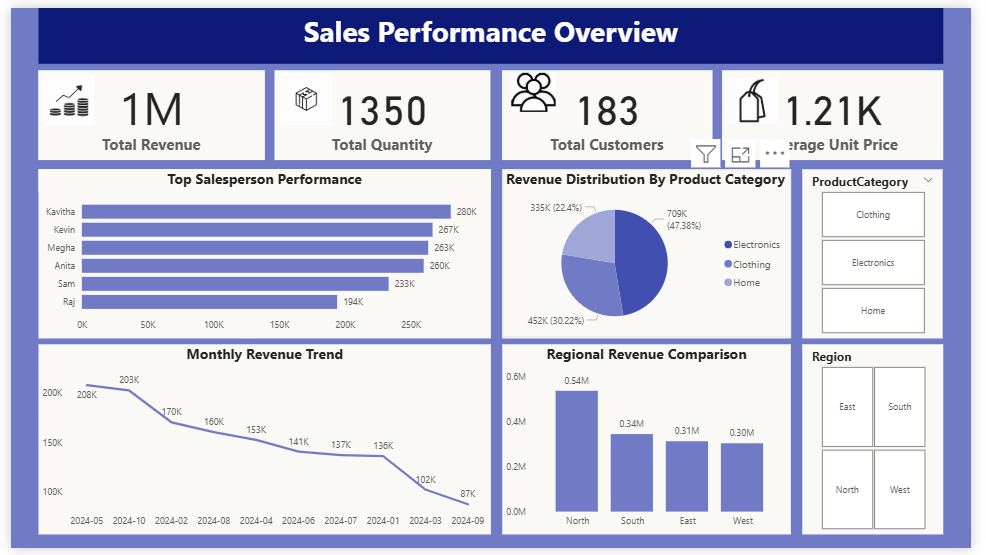

Layout of this report page (visuals, bound fields, positions):
{"tool":"powerbi","page":{"name":"Sales Performance Overview","canvas":[1280,720],"ordinal":0},"visuals":[{"type":"textbox","box":[36.2,0,1206.4,74.8],"z":0},{"type":"card","fields":{"Values":["sales_dataset.Total Revenue"]},"box":[36.2,83.2,301.6,119.4],"z":1000},{"type":"card","fields":{"Values":["sales_dataset.Total Quantity"]},"box":[352.3,83.2,287.1,119.4],"z":2000},{"type":"card","fields":{"Values":["sales_dataset.Total Customers"]},"box":[655.1,83.2,279.9,119.4],"z":3000},{"type":"card","fields":{"Values":["sales_dataset.Average Unit Prize"]},"box":[948.3,83.2,294.4,119.4],"z":4000},{"type":"lineChart","title":"Monthly Revenue Trend","fields":{"Category":["Date.Year-Month"],"Y":["sales_dataset.Total Revenue"]},"box":[36.2,448.8,603.2,253.4],"z":5000},{"type":"columnChart","title":"Regional Revenue Comparison","fields":{"Category":["sales_dataset.Region"],"Y":["sales_dataset.Total Revenue"]},"box":[655.1,448.8,384.9,253.4],"z":6000},{"type":"pieChart","title":"Revenue Distribution By Product Category","fields":{"Category":["sales_dataset.ProductCategory"],"Y":["sales_dataset.Total Revenue"]},"box":[655.1,214.7,384.9,225.6],"z":7000},{"type":"barChart","title":"Top Salesperson Performance","fields":{"Category":["sales_dataset.SalespersonName"],"Y":["sales_dataset.Total Revenue"]},"box":[36.2,214.7,603.2,225.6],"z":8000},{"type":"slicer","fields":{"Values":["sales_dataset.Region"]},"box":[1055.6,448.8,188.2,253.4],"z":9000},{"type":"slicer","fields":{"Values":["sales_dataset.ProductCategory"]},"box":[1055.6,214.7,187,225.6],"z":10000},{"type":"image","box":[36.2,84.5,80.8,77.2],"z":11000},{"type":"image","box":[352.3,82,83.2,79.6],"z":12000},{"type":"image","box":[948.3,84.5,80.8,77.2],"z":13000},{"type":"image","box":[655.1,82,83.2,61.5],"z":14000}]}

Visuals, with their boxes in screenshot pixels (x1, y1, x2, y2), scaled from the page's 1280x720 canvas onto the 986x555 screenshot:
textbox: {"left": 28, "top": 0, "right": 957, "bottom": 58}
card - sales_dataset.Total Revenue: {"left": 28, "top": 64, "right": 260, "bottom": 156}
card - sales_dataset.Total Quantity: {"left": 271, "top": 64, "right": 493, "bottom": 156}
card - sales_dataset.Total Customers: {"left": 505, "top": 64, "right": 720, "bottom": 156}
card - sales_dataset.Average Unit Prize: {"left": 730, "top": 64, "right": 957, "bottom": 156}
"Monthly Revenue Trend" lineChart: {"left": 28, "top": 346, "right": 493, "bottom": 541}
"Regional Revenue Comparison" columnChart: {"left": 505, "top": 346, "right": 801, "bottom": 541}
"Revenue Distribution By Product Category" pieChart: {"left": 505, "top": 165, "right": 801, "bottom": 339}
"Top Salesperson Performance" barChart: {"left": 28, "top": 165, "right": 493, "bottom": 339}
slicer - sales_dataset.Region: {"left": 813, "top": 346, "right": 958, "bottom": 541}
slicer - sales_dataset.ProductCategory: {"left": 813, "top": 165, "right": 957, "bottom": 339}
image: {"left": 28, "top": 65, "right": 90, "bottom": 125}
image: {"left": 271, "top": 63, "right": 335, "bottom": 125}
image: {"left": 730, "top": 65, "right": 793, "bottom": 125}
image: {"left": 505, "top": 63, "right": 569, "bottom": 111}
